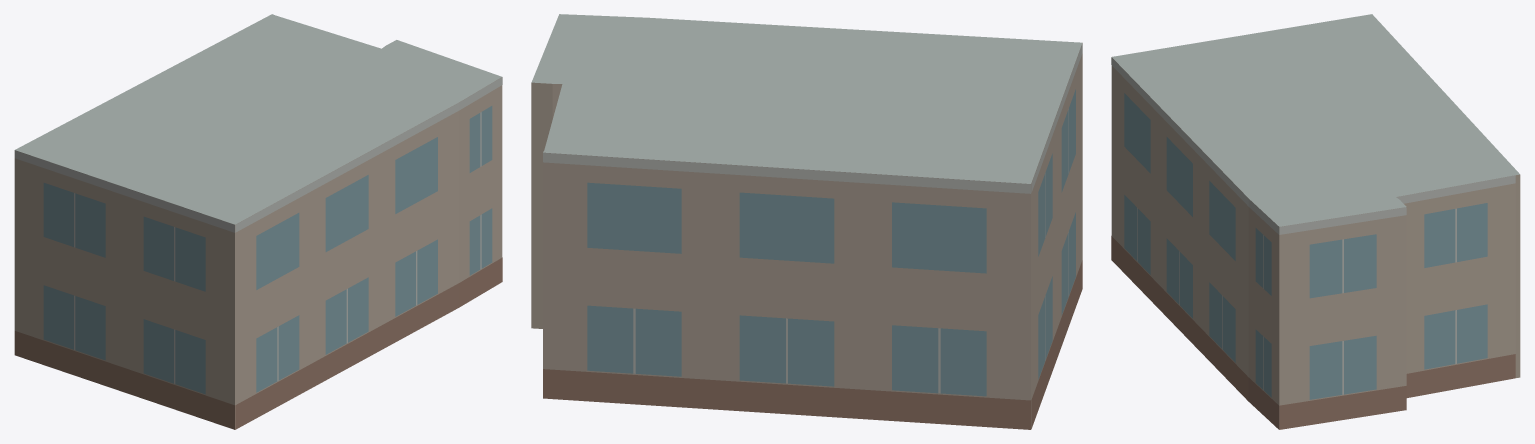
Rendered from survey-upis-32679873.glb.
The picture shows the model from 3 angles, left to right: view 1: azimuth 30°, elevation 25°; view 2: azimuth 150°, elevation 25°; view 3: azimuth 270°, elevation 25°; orthographic projection. The views are drawn at different scales.
Parts seen in each view (by area): view 1: survey-upis-32679873.tmp; view 2: survey-upis-32679873.tmp; view 3: survey-upis-32679873.tmp.
Part boxes in pixels (left/top/right/bottom): survey-upis-32679873.tmp: left=14, top=14, right=502, bottom=429; survey-upis-32679873.tmp: left=531, top=14, right=1082, bottom=429; survey-upis-32679873.tmp: left=1111, top=14, right=1520, bottom=429.
Size of the model in its own units: 13.73 by 6.1 by 11.15.
